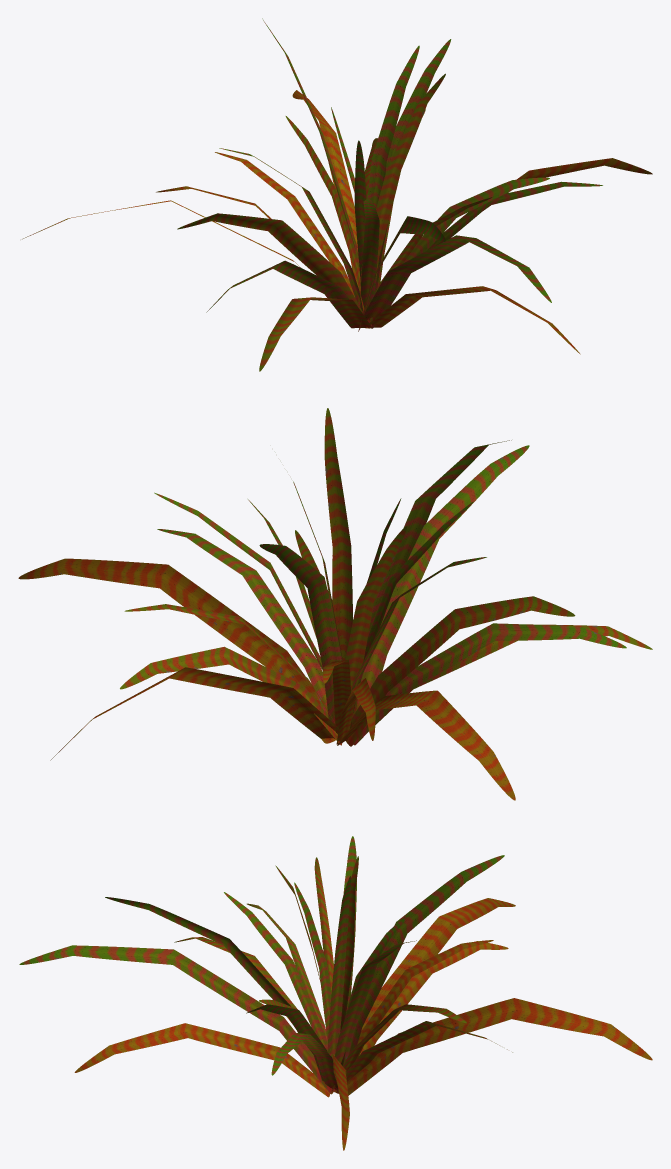
The model's file is PLant_10_1_L2.fbx.
The picture shows the model from 3 angles, top to bottom: view 1: azimuth 30°, elevation 25°; view 2: azimuth 150°, elevation 25°; view 3: azimuth 270°, elevation 25°; orthographic projection. The views are drawn at different scales.
Parts seen in each view (by area): view 1: polySurface3; view 2: polySurface3; view 3: polySurface3.
Boxes of the visible parts, left/top/right/bottom form: polySurface3: left=22, top=18, right=652, bottom=371; polySurface3: left=18, top=408, right=652, bottom=800; polySurface3: left=19, top=836, right=652, bottom=1150.
Size of the model in its own units: 321 by 154 by 348.
